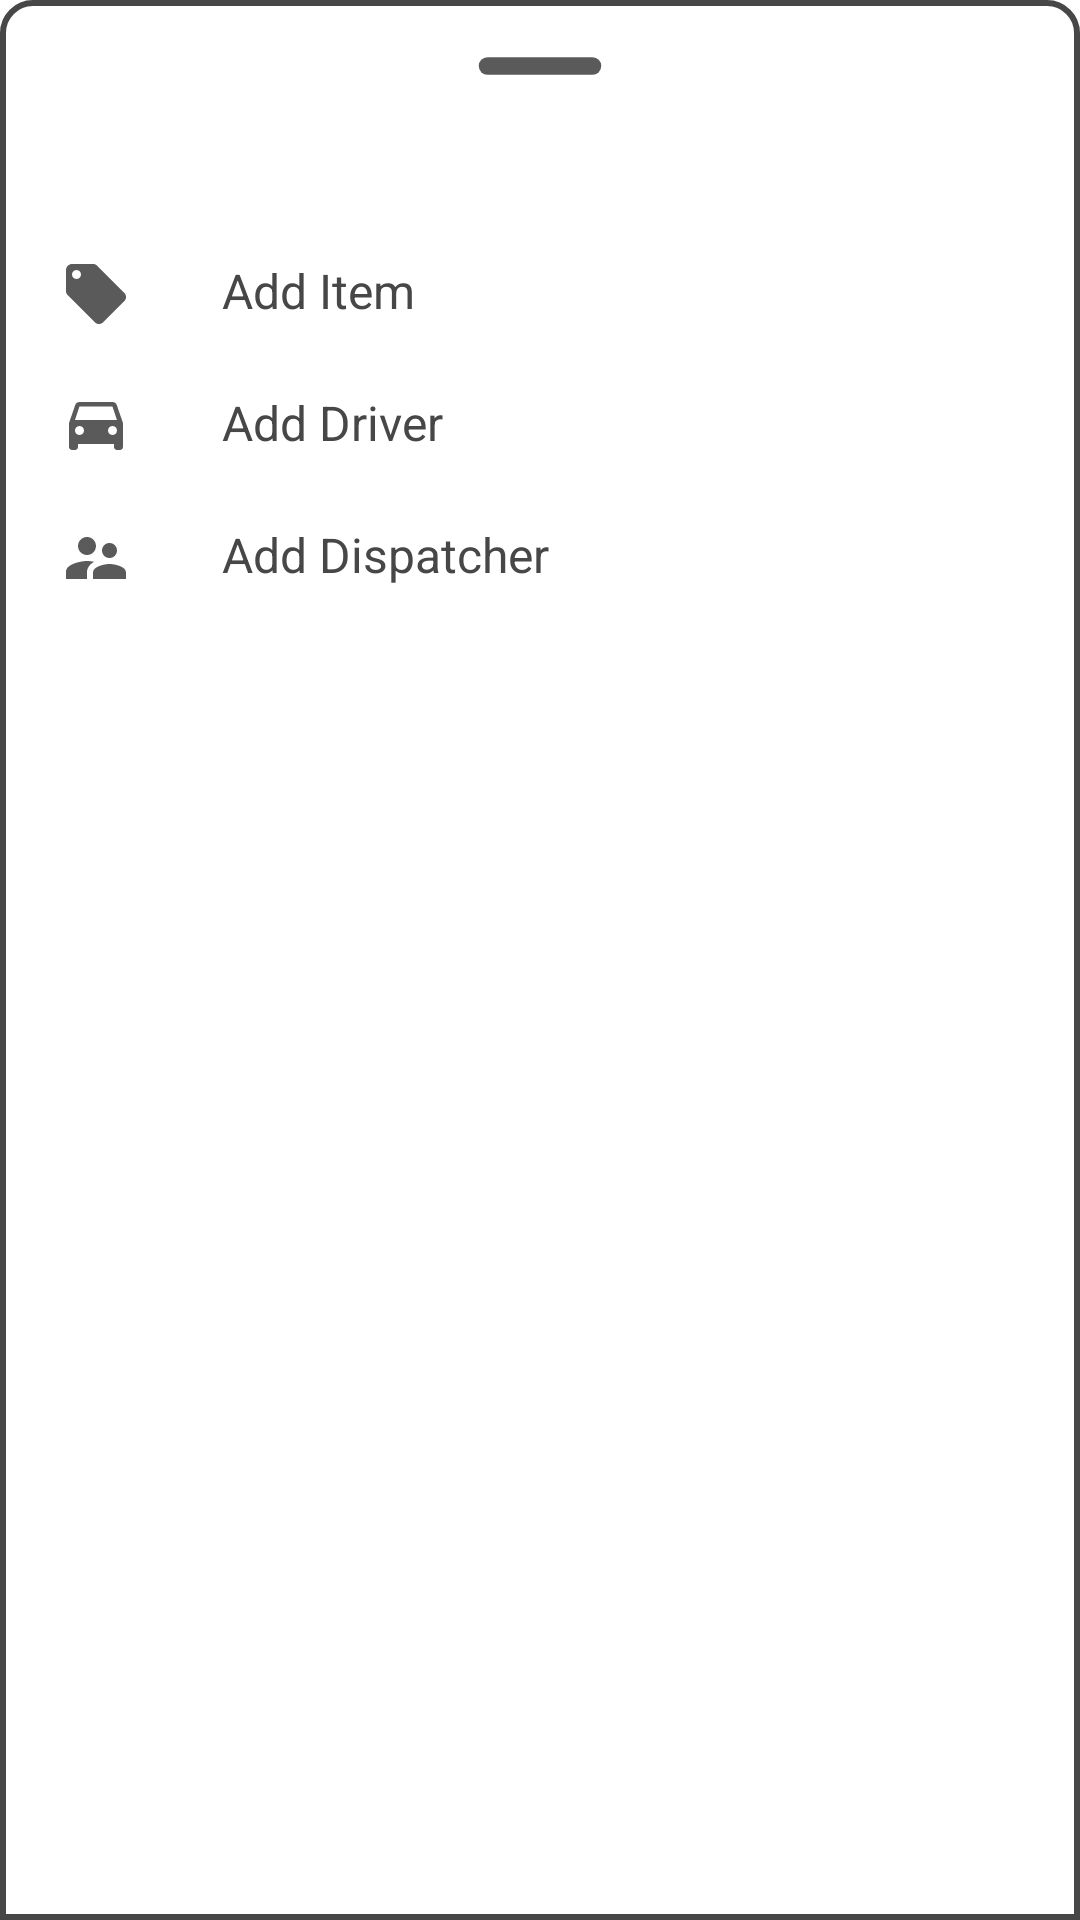

Screen size 1080*1920. Icon name, then its center in pixels as (x,y):
drive eta: (96,426)
local offer: (96,294)
supervisor account: (96,558)
